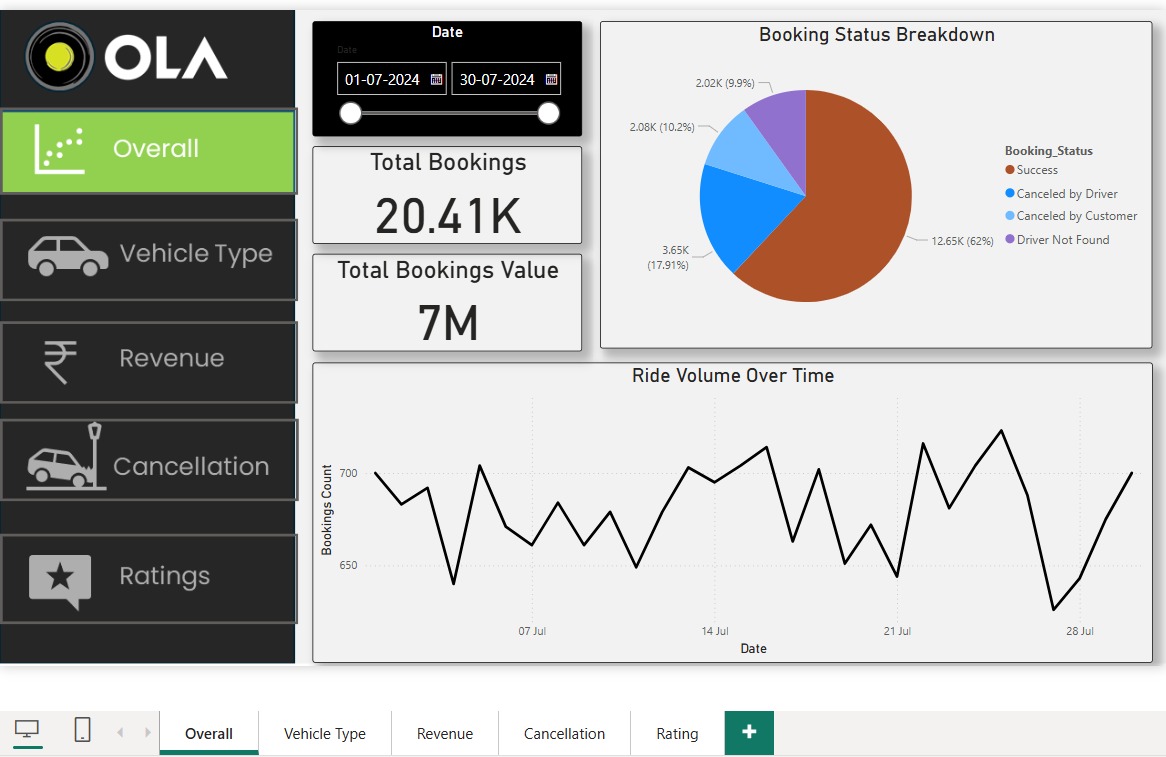

Layout of this report page (visuals, bound fields, positions):
{"tool":"powerbi","page":{"name":"Overall","canvas":[1280,720],"ordinal":0},"visuals":[{"type":"actionButton","box":[0,229.6,327.4,90.7],"z":0},{"type":"actionButton","box":[0,341.6,327.4,90.7],"z":1000},{"type":"actionButton","box":[0,448.7,328,90.6],"z":2000},{"type":"actionButton","box":[0,107.5,327.6,95.7],"z":3000},{"type":"actionButton","box":[0,575.4,327.4,99.2],"z":4000},{"type":"lineChart","title":"Ride Volume Over Time","fields":{"Y":["CountNonNull(Booking.Booking_ID)"],"Category":["Booking.Date"]},"box":[342.7,386.4,922.2,329.2],"z":5000},{"type":"pieChart","title":"Booking Status Breakdown","fields":{"Category":["Booking.Booking_Status"],"Y":["CountNonNull(Booking.Booking_Status)"]},"box":[658.7,12.3,606.5,359.5],"z":6000},{"type":"slicer","title":"Date","fields":{"Values":["Booking.Date"]},"box":[343.1,12.3,296.4,126.2],"z":7000},{"type":"card","title":" Total  Bookings","fields":{"Values":["CountNonNull(Booking.Booking_ID)"]},"box":[343.1,149.6,296.4,107],"z":8000},{"type":"card","title":" Total  Bookings Value","fields":{"Values":["Sum(Booking.Booking_Value)"]},"box":[343.1,267.6,296.4,107],"z":9000}]}

Visuals, with their boxes on the page's 1280x720 design canvas (x1, y1, x2, y2). These are canvas units, not pixel positions in the 1166x757 screenshot, which may show the page scaled, cropped or inside an application window:
actionButton: {"x1": 0, "y1": 230, "x2": 327, "y2": 320}
actionButton: {"x1": 0, "y1": 342, "x2": 327, "y2": 432}
actionButton: {"x1": 0, "y1": 449, "x2": 328, "y2": 539}
actionButton: {"x1": 0, "y1": 108, "x2": 328, "y2": 203}
actionButton: {"x1": 0, "y1": 575, "x2": 327, "y2": 675}
"Ride Volume Over Time" lineChart: {"x1": 343, "y1": 386, "x2": 1265, "y2": 716}
"Booking Status Breakdown" pieChart: {"x1": 659, "y1": 12, "x2": 1265, "y2": 372}
"Date" slicer: {"x1": 343, "y1": 12, "x2": 640, "y2": 138}
" Total  Bookings" card: {"x1": 343, "y1": 150, "x2": 640, "y2": 257}
" Total  Bookings Value" card: {"x1": 343, "y1": 268, "x2": 640, "y2": 375}
